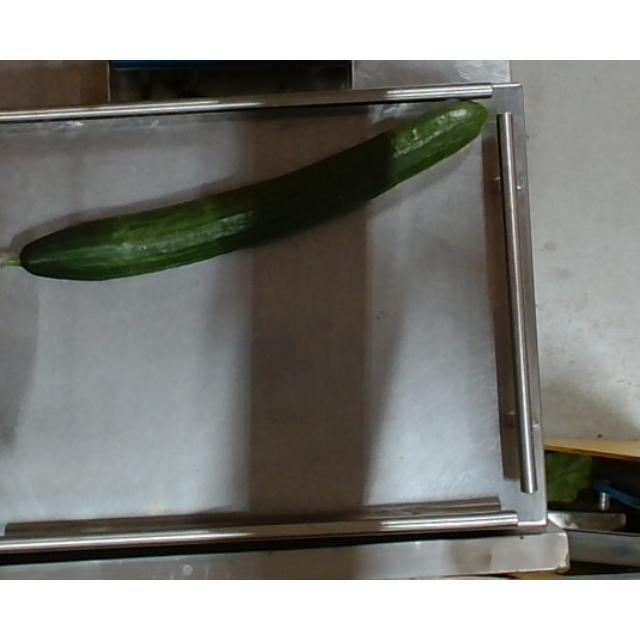cucumber: (16, 90, 490, 284)
